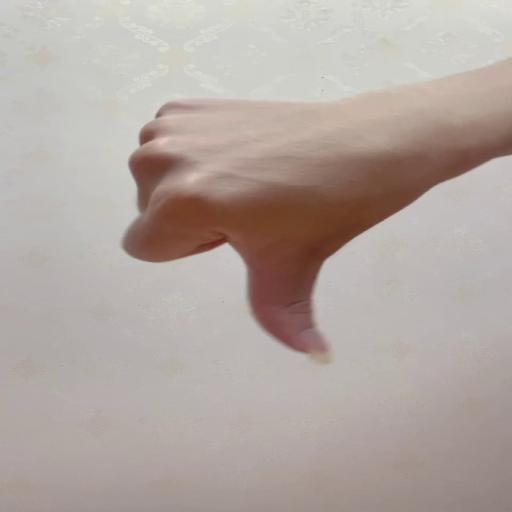thumbs_down: (121, 95, 472, 367)
